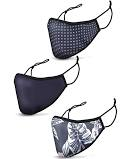cloth_mask: (13, 58, 81, 116)
